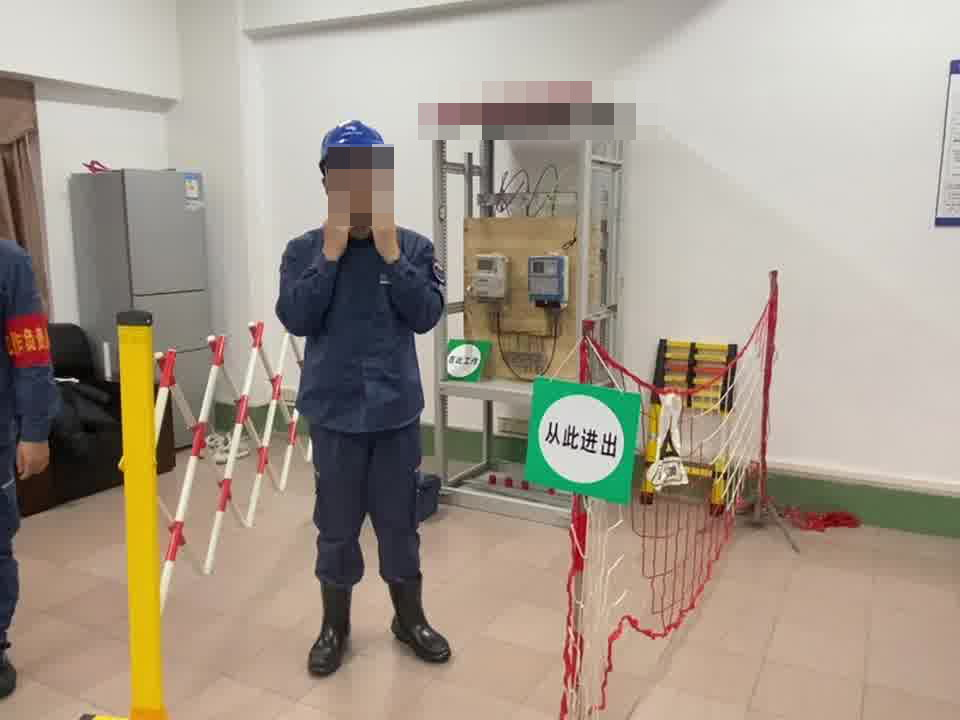badge: (2, 314, 52, 372)
downsuit: (306, 438, 432, 616)
halt: (316, 119, 395, 224)
hand: (319, 207, 358, 266), (8, 436, 55, 479), (370, 209, 404, 265)
intosign: (516, 373, 643, 507)
person: (271, 116, 458, 677), (1, 229, 54, 711)
shoe: (374, 574, 455, 660), (306, 584, 358, 676)
sleeve: (432, 259, 447, 289)
upsuit: (273, 218, 448, 431), (1, 232, 55, 442)
worksign: (444, 332, 493, 388)
